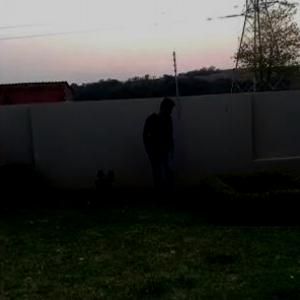follow: (142, 92, 176, 207)
